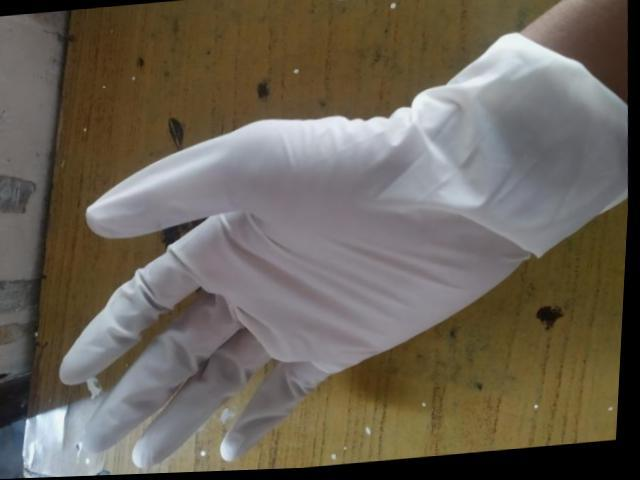Hand-in-Glove: (21, 11, 638, 478)
